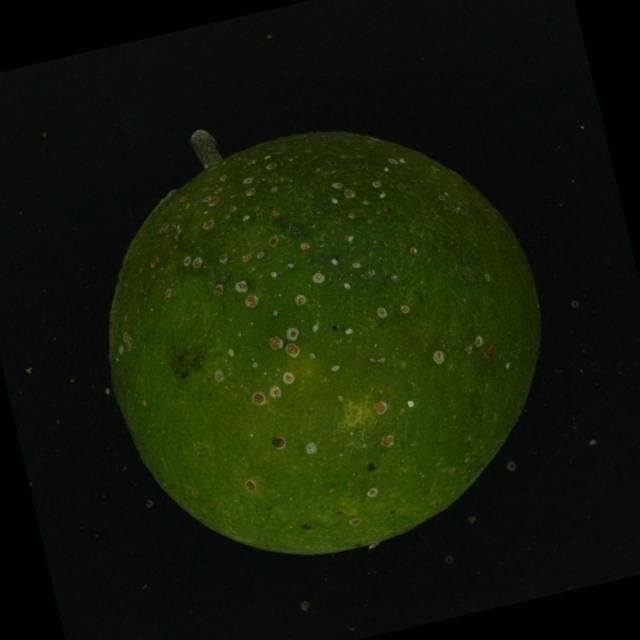grenning: (86, 108, 559, 578)
